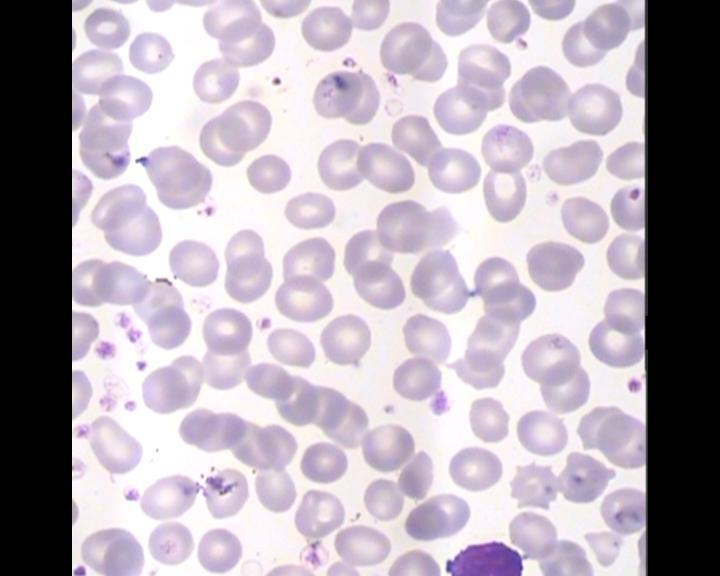baso: (439, 538, 529, 576)
